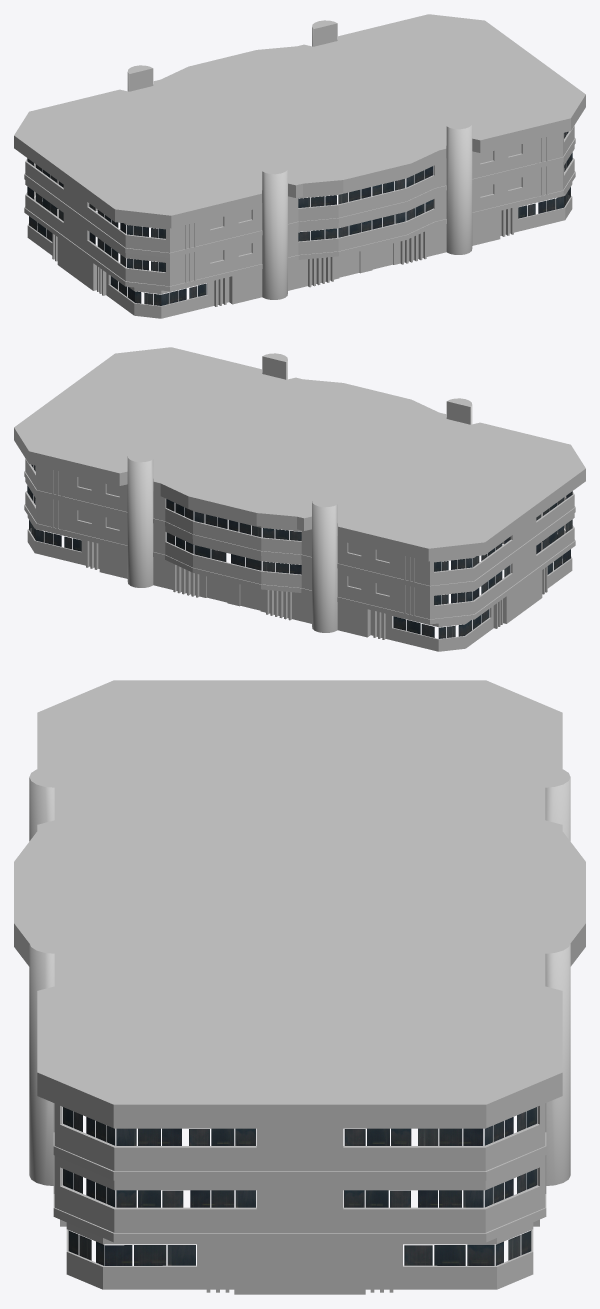
3 views of the same model, one above another, from view 1: azimuth 30°, elevation 25°; view 2: azimuth 150°, elevation 25°; view 3: azimuth 270°, elevation 25° (orthographic). The views are drawn at different scales.
Visible parts, largest first — view 1: BB-065; view 2: BB-065; view 3: BB-065.
Part boxes in pixels (x1,y1,x2,y2): BB-065: (14, 14, 585, 318); BB-065: (14, 347, 585, 651); BB-065: (14, 680, 585, 1294).
Size of what is drawn, in the model's own units: 51.62 by 13.18 by 29.41.
